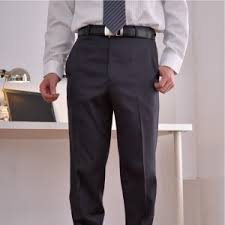F_belt: (70, 19, 162, 44)
F_dress pants: (64, 35, 162, 224)
